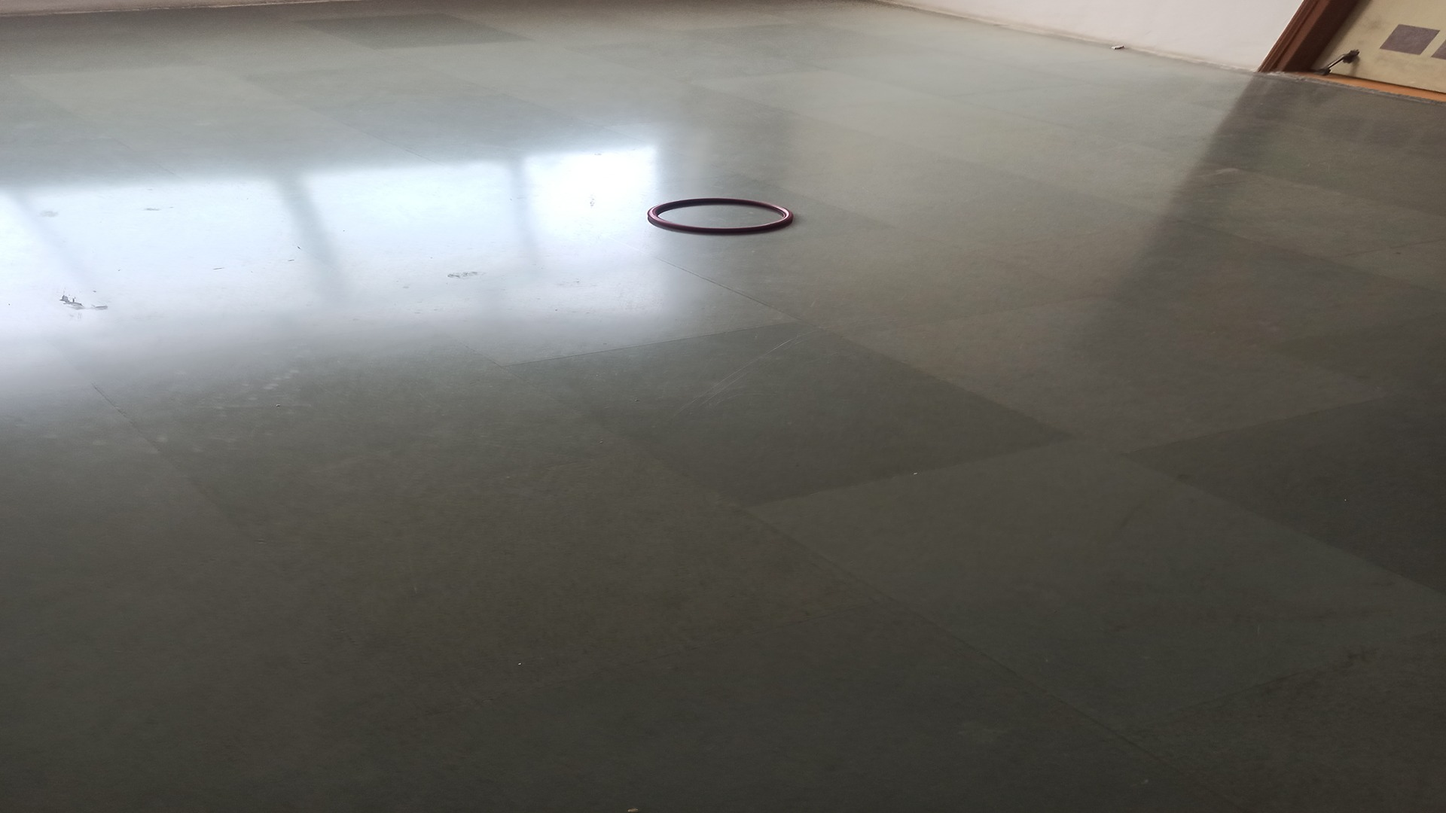Red ring: (646, 195, 794, 236)
